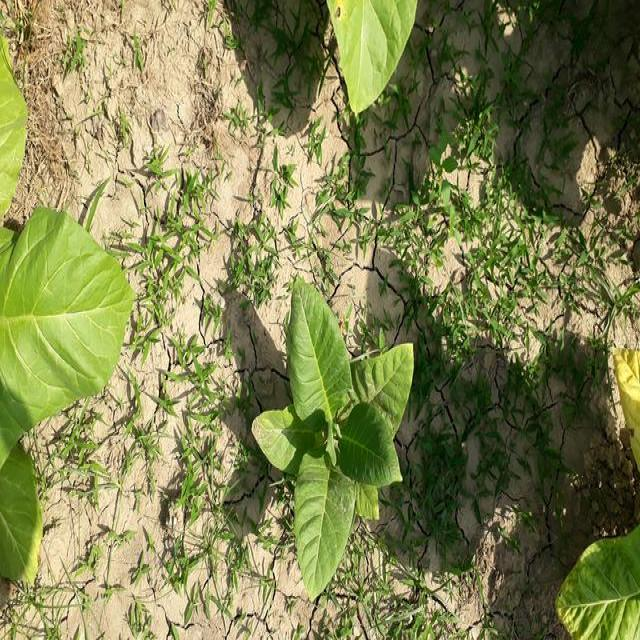crop: (0, 46, 134, 608), (250, 275, 416, 586), (555, 345, 636, 640), (322, 4, 418, 110)
